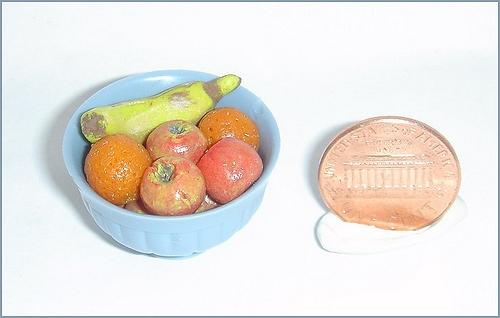apple: (196, 138, 264, 206), (140, 156, 207, 216), (146, 120, 208, 165)
banana: (80, 75, 242, 148)
orange: (83, 134, 152, 204), (198, 107, 260, 152)
